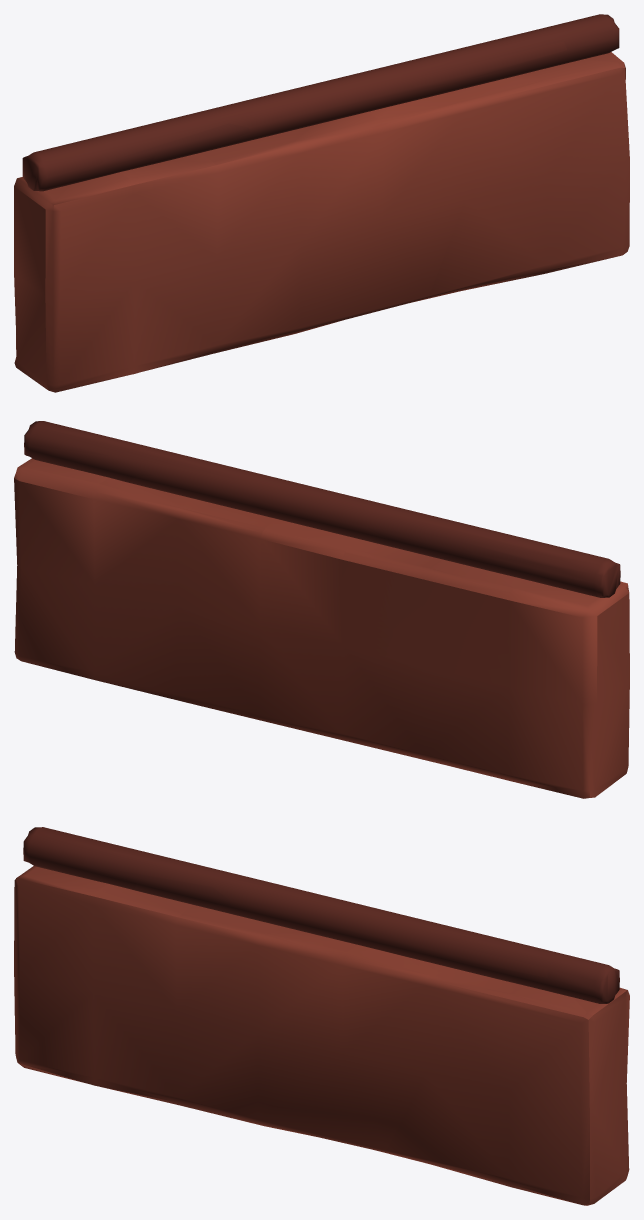
Rendered from den_bed_rail_x_lod2.glb.
3 renders of one model, top to bottom at view 1: azimuth 30°, elevation 25°; view 2: azimuth 150°, elevation 25°; view 3: azimuth 330°, elevation 25°, orthographic.
Parts seen in each view (by area): view 1: den_bed_rail_x.001; view 2: den_bed_rail_x.001; view 3: den_bed_rail_x.001.
Part boxes in pixels (x1,y1,x2,y2): den_bed_rail_x.001: (14, 14, 629, 392); den_bed_rail_x.001: (14, 421, 629, 798); den_bed_rail_x.001: (14, 827, 629, 1205).
Size of the model in its own units: 24.12 by 9.01 by 3.18.
